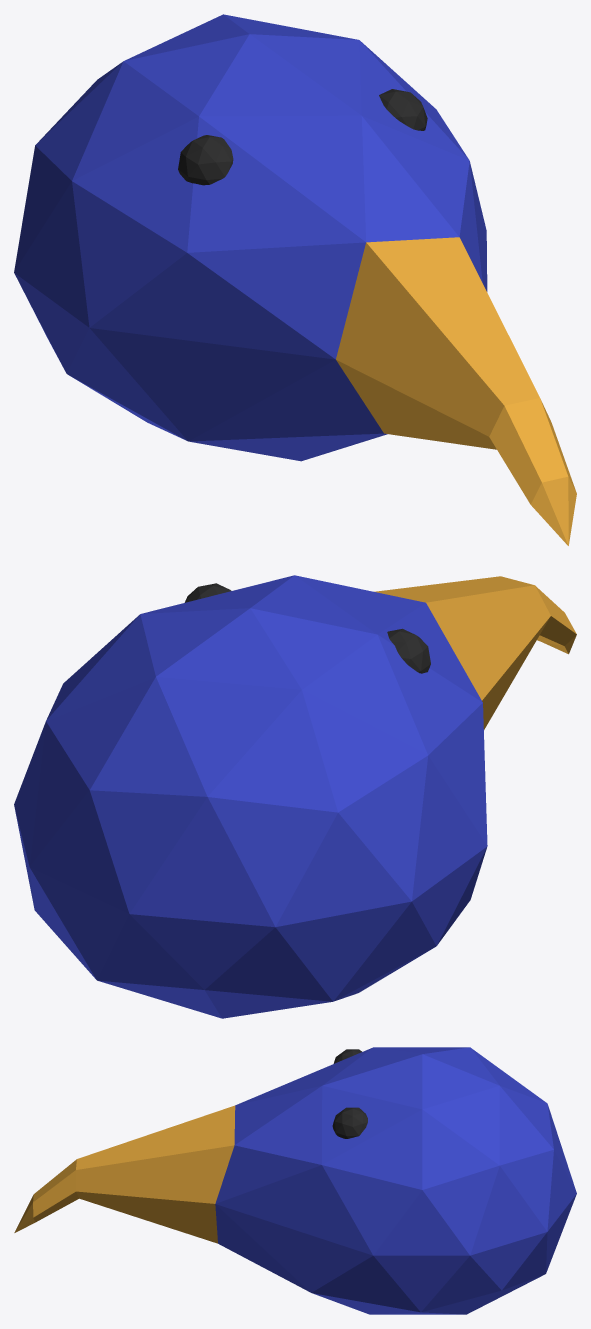
File: Bird Head.fbx
The picture shows the model from 3 angles, top to bottom: view 1: azimuth 30°, elevation 25°; view 2: azimuth 150°, elevation 25°; view 3: azimuth 270°, elevation 25°; orthographic projection. The views are drawn at different scales.
Visible parts, largest first — view 1: Bird Head; view 2: Bird Head; view 3: Bird Head.
Part boxes in pixels (x1,y1,x2,y2): Bird Head: [14, 14, 576, 545]; Bird Head: [14, 575, 576, 1018]; Bird Head: [14, 1047, 576, 1314].
Bounding box in the file's own units: 302 × 286 × 579.
